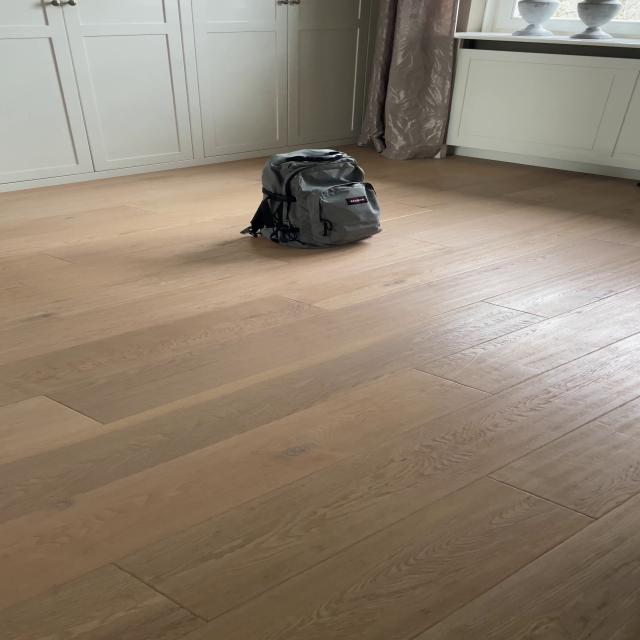backpack: (241, 145, 389, 252)
